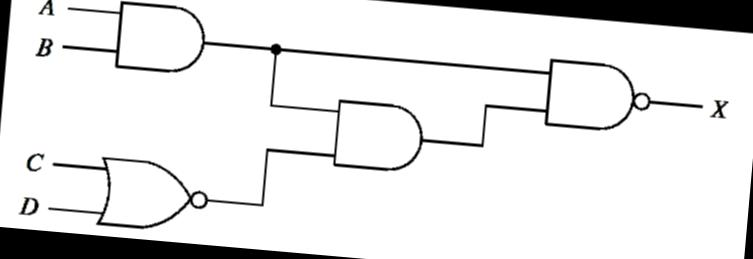and: (324, 92, 436, 180), (104, 0, 218, 81)
nand: (532, 48, 664, 140)
nor: (86, 149, 217, 240)
